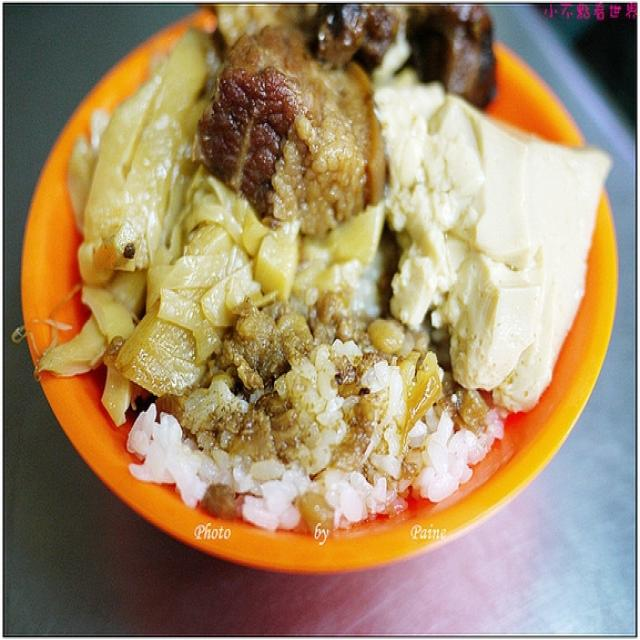猪肉菜式: (28, 24, 596, 551)
